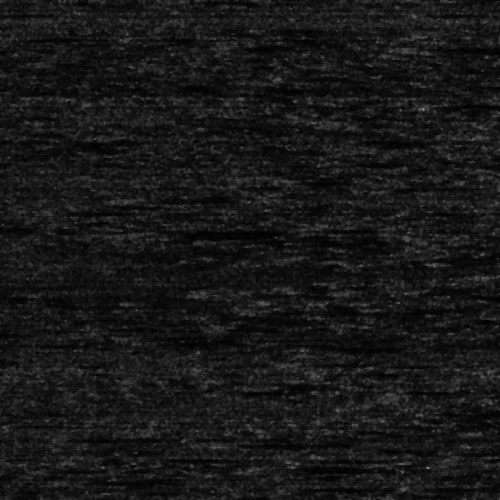object: (96, 228, 211, 237), (371, 44, 434, 51), (187, 438, 250, 443)
shadow: (154, 228, 256, 237), (403, 44, 500, 51), (219, 438, 325, 443)
